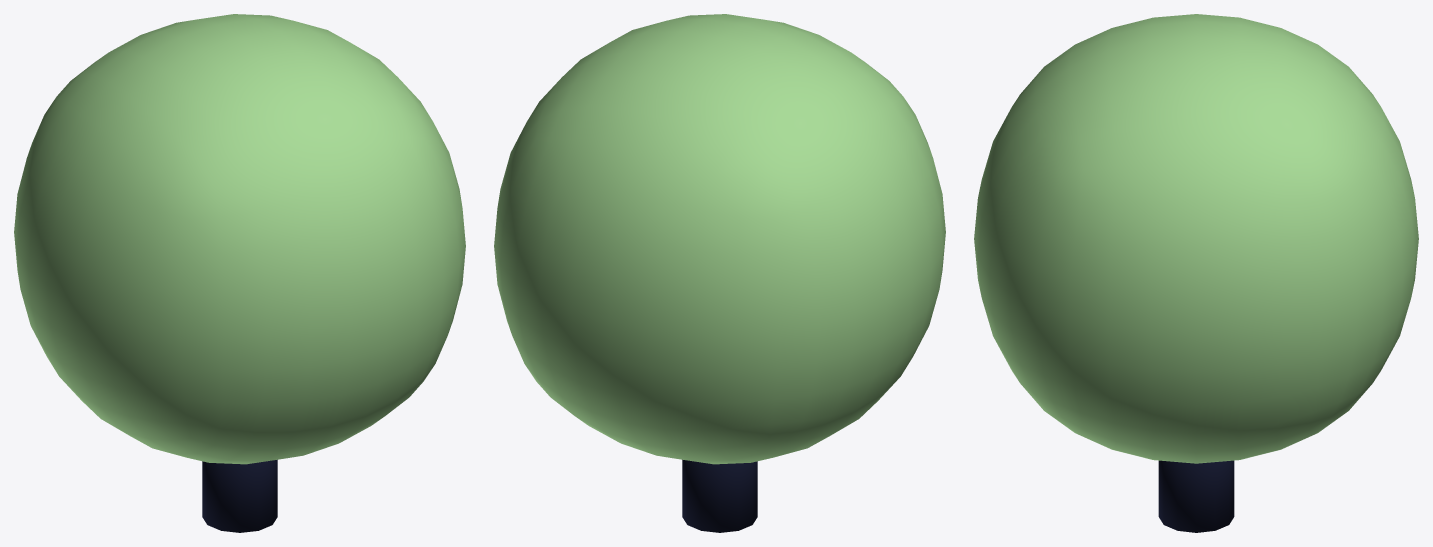
Rendered from tree-rond.gltf.
The picture shows the model from 3 angles, left to right: view 1: azimuth 30°, elevation 25°; view 2: azimuth 150°, elevation 25°; view 3: azimuth 270°, elevation 25°; orthographic projection.
Parts seen in each view (by area): view 1: Cube.001, Cylinder; view 2: Cube.001, Cylinder; view 3: Cube.001, Cylinder.
Part boxes in pixels (left/top/right/bottom): Cube.001: left=14, top=14, right=465, bottom=464; Cylinder: left=202, top=459, right=277, bottom=532; Cube.001: left=494, top=14, right=945, bottom=464; Cylinder: left=682, top=459, right=757, bottom=532; Cube.001: left=974, top=14, right=1418, bottom=463; Cylinder: left=1158, top=460, right=1234, bottom=532.
Bounding box in the file's own units: 1.11 × 1.32 × 1.11.
